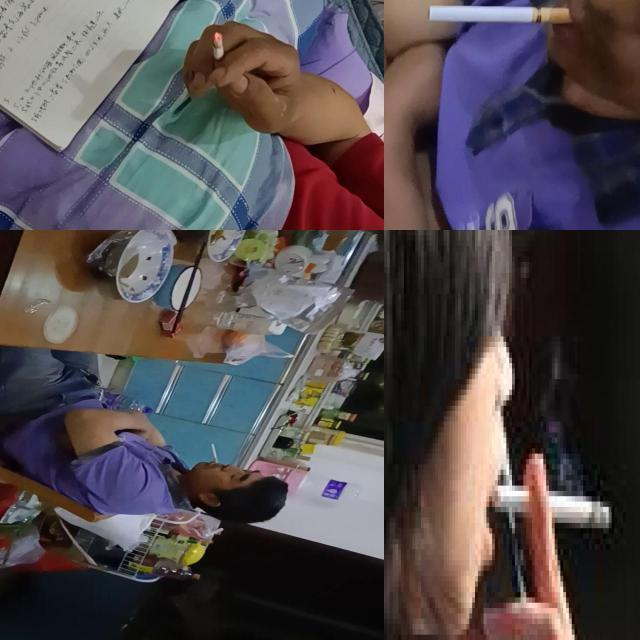smoking: (483, 464, 618, 544), (430, 6, 574, 25), (212, 32, 226, 78), (212, 444, 218, 464)
